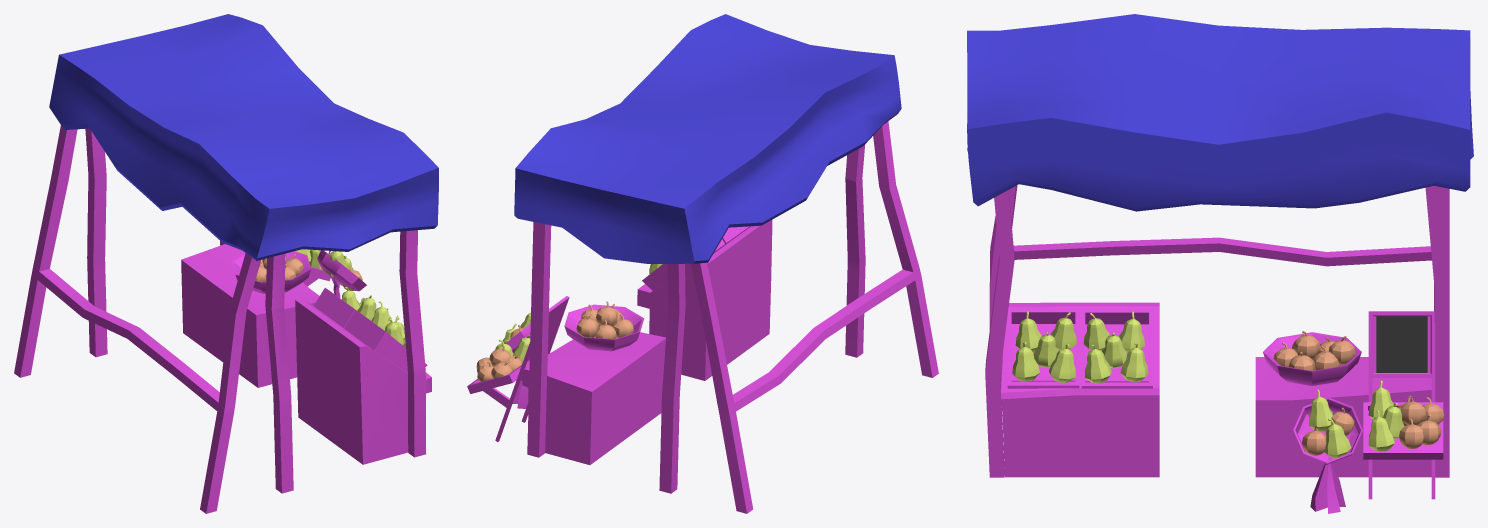
File: market03.fbx
The picture shows the model from 3 angles, left to right: view 1: azimuth 30°, elevation 25°; view 2: azimuth 150°, elevation 25°; view 3: azimuth 270°, elevation 25°; orthographic projection. The views are drawn at different scales.
Parts seen in each view (by area): view 1: Stall3; view 2: Stall3; view 3: Stall3.
Part boxes in pixels (box(x1,y1,x2,y2)): Stall3: box(14, 14, 438, 513); Stall3: box(467, 14, 938, 513); Stall3: box(967, 14, 1473, 513).
Size of the model in its own units: 109 by 110 by 135.
